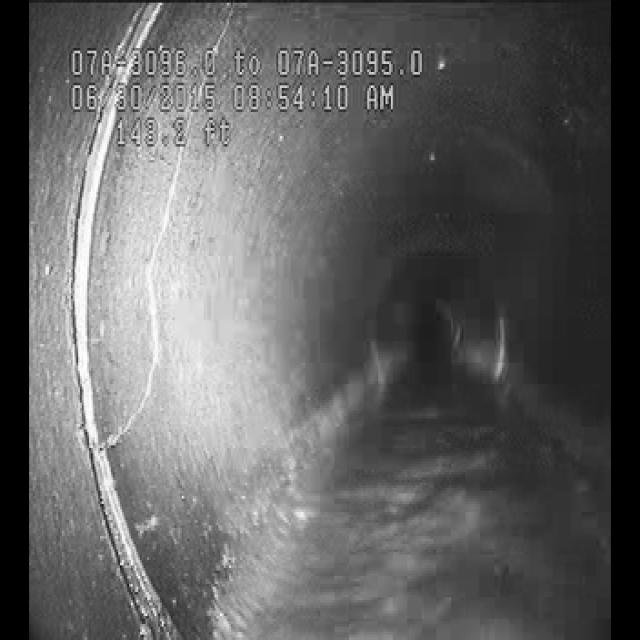Crack: (99, 158, 204, 452)
